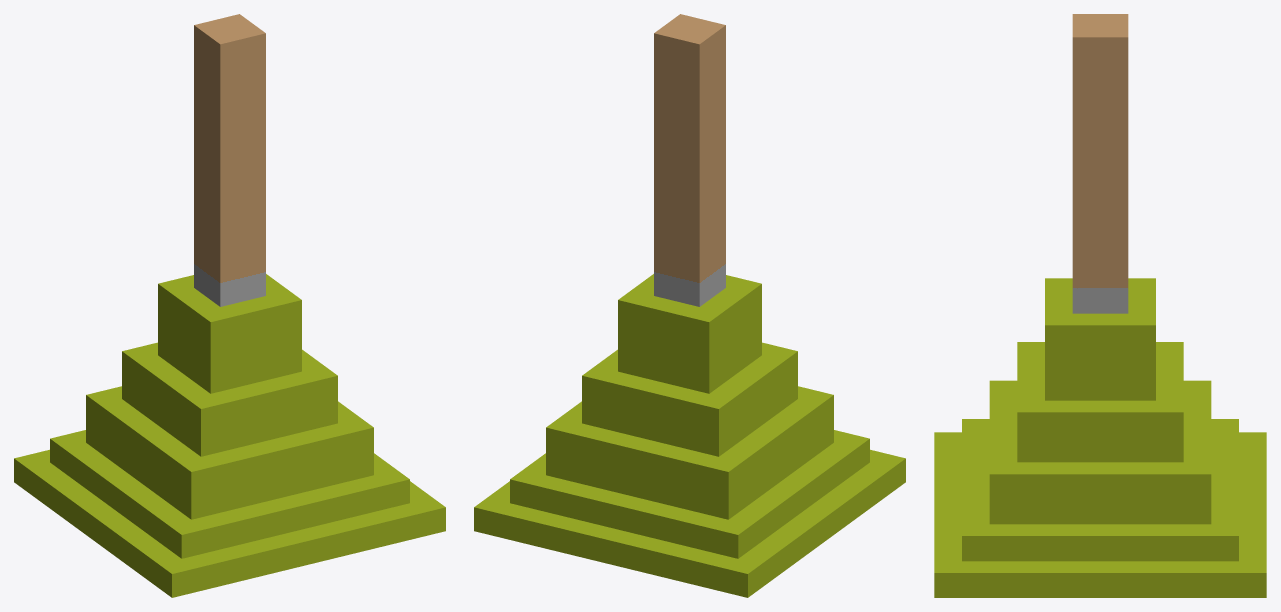
The model's file is clopotel.fbx.
3 renders of one model, left to right at view 1: azimuth 30°, elevation 25°; view 2: azimuth 150°, elevation 25°; view 3: azimuth 270°, elevation 25°, orthographic. The views are drawn at different scales.
Parts seen in each view (by area): view 1: cube_6, cube, cube_1, cube_4, cube_5, cube_3, cube_2; view 2: cube_6, cube, cube_1, cube_4, cube_5, cube_3, cube_2; view 3: cube, cube_6, cube_1, cube_4, cube_3, cube_5, cube_2.
Part boxes in pixels (box(x1,y1,x2,y2)): cube_6: box(194, 14, 265, 306); cube: box(14, 449, 445, 597); cube_1: box(50, 430, 409, 558); cube_4: box(122, 342, 337, 456); cube_5: box(158, 274, 301, 393); cube_3: box(86, 386, 373, 495); cube_2: box(86, 419, 373, 519); cube_6: box(654, 14, 725, 306); cube: box(474, 449, 905, 597); cube_1: box(510, 430, 869, 558); cube_4: box(582, 342, 797, 456); cube_5: box(618, 274, 761, 393); cube_3: box(546, 386, 833, 495); cube_2: box(546, 419, 833, 519); cube: box(934, 432, 1266, 597); cube_6: box(1072, 14, 1128, 313); cube_1: box(962, 419, 1238, 561); cube_4: box(1017, 342, 1183, 462); cube_3: box(989, 380, 1211, 499); cube_5: box(1045, 278, 1155, 400); cube_2: box(989, 499, 1211, 524).
Size of the model in its own units: 75 by 125 by 75.
1 material, 1 textured.
